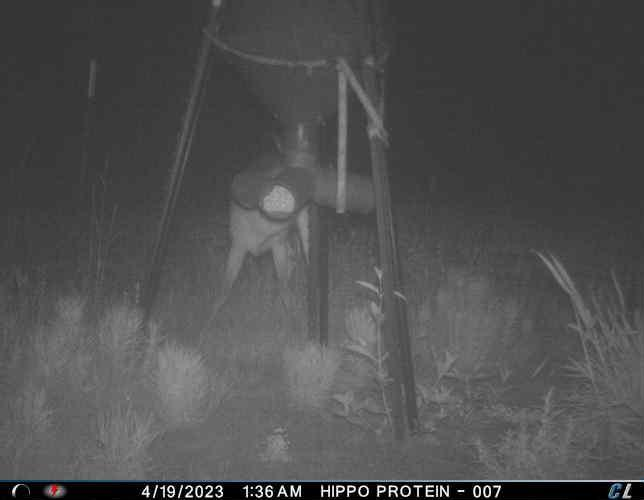Deer: (214, 199, 313, 321)
